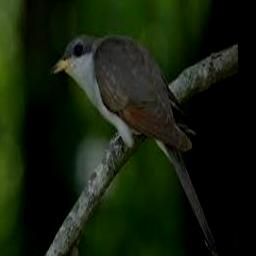Cuckoo: (51, 32, 220, 256)
